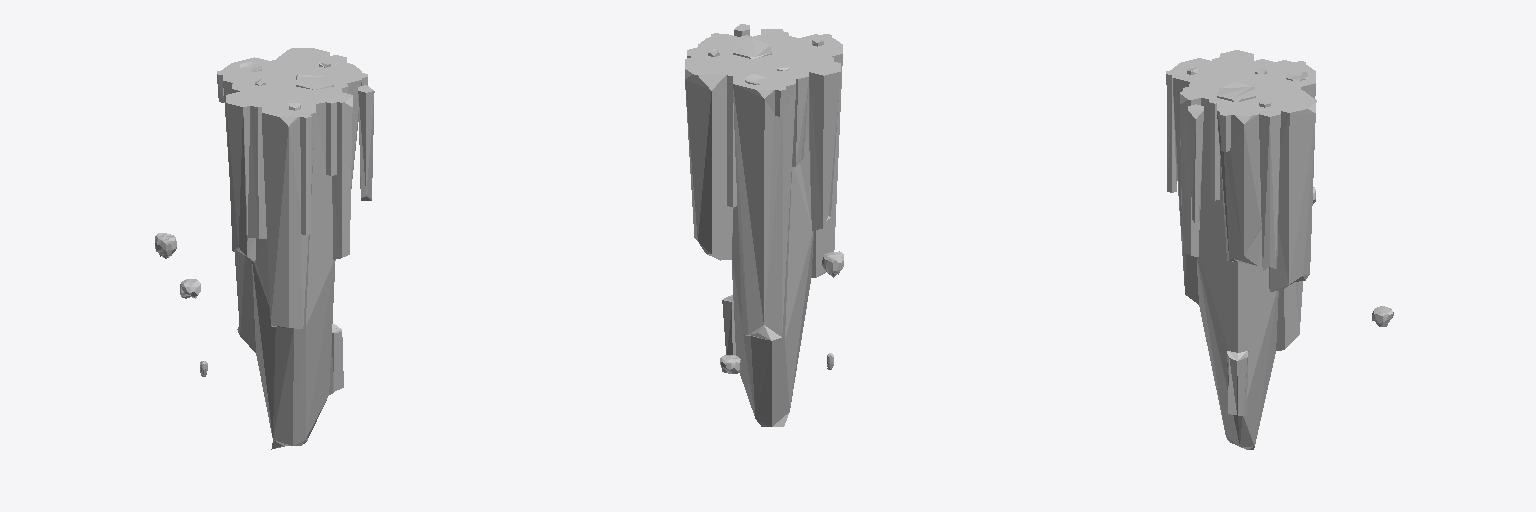
The model's file is Floater.obj.
3 views of the same model, side by side, from view 1: azimuth 30°, elevation 25°; view 2: azimuth 150°, elevation 25°; view 3: azimuth 270°, elevation 25° (orthographic).
Visible parts, largest first — view 1: RockFlyPt2_Untitled.001; view 2: RockFlyPt2_Untitled.001; view 3: RockFlyPt2_Untitled.001.
Boxes of the visible parts, <box> form: RockFlyPt2_Untitled.001: <box>155,48,374,449</box>; RockFlyPt2_Untitled.001: <box>685,24,843,426</box>; RockFlyPt2_Untitled.001: <box>1166,50,1393,449</box>.
Size of the model in its own units: 1.29 by 2.62 by 1.46.